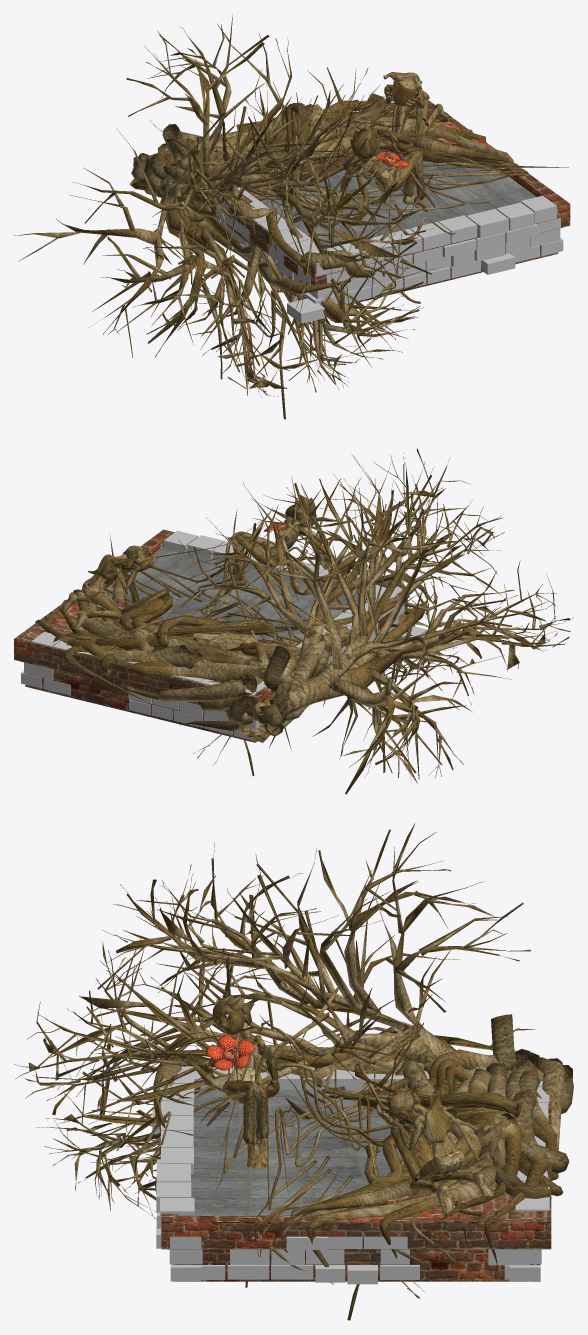
Rendered from Statue4.fbx.
3 views of the same model, one above another, from view 1: azimuth 30°, elevation 25°; view 2: azimuth 150°, elevation 25°; view 3: azimuth 270°, elevation 25° (orthographic). The views are drawn at different scales.
Visible parts, largest first — view 1: tree, Wall, BezierCurve.003, Plane, BezierCurve.002, Ego_Plane.006_PantalonJean.001, Ego_Plane.006_PantalonJean.002, Ego_Plane.006_Bras.001, Cheveux_Sphere_Material.001, Cheveux_Sphere_Material.002, Ego_Plane.006_Material.002; view 2: tree, BezierCurve.003, Plane, Wall, BezierCurve.002, Ego_Plane.006_PantalonJean.001, Ego_Plane.006_PantalonJean.002, Ego_Plane.006_Bras.001, armure, Ego_Plane.006_Material.002, Ego_Plane.006_Bras.002; view 3: tree, Plane, BezierCurve.003, Wall, BezierCurve.002, Ego_Plane.006_PantalonJean.001, Ego_Plane.006_PantalonJean.002, armure, Ego_Plane.006_Material.001, Ego_Plane.006_Material.002, Ego_Plane.006_Bras.001, Ego_Plane.006_Tete.001 (+2 smaller).
Part boxes in pixels (x1=…): tree: x1=14, y1=14, x2=439, y2=419; Wall: x1=165, y1=95, x2=563, y2=323; BezierCurve.003: x1=130, y1=93, x2=568, y2=297; Plane: x1=158, y1=100, x2=570, y2=304; BezierCurve.002: x1=224, y1=121, x2=529, y2=303; Ego_Plane.006_PantalonJean.001: x1=385, y1=151, x2=425, y2=200; Ego_Plane.006_PantalonJean.002: x1=392, y1=99, x2=441, y2=137; Ego_Plane.006_Bras.001: x1=335, y1=155, x2=378, y2=220; Cheveux_Sphere_Material.001: x1=350, y1=124, x2=377, y2=160; Cheveux_Sphere_Material.002: x1=386, y1=76, x2=417, y2=105; Ego_Plane.006_Material.002: x1=361, y1=158, x2=397, y2=193; tree: x1=169, y1=448, x2=573, y2=794; BezierCurve.003: x1=35, y1=534, x2=415, y2=736; Plane: x1=14, y1=529, x2=407, y2=742; Wall: x1=21, y1=530, x2=426, y2=741; BezierCurve.002: x1=62, y1=506, x2=354, y2=646; Ego_Plane.006_PantalonJean.001: x1=232, y1=531, x2=275, y2=580; Ego_Plane.006_PantalonJean.002: x1=76, y1=588, x2=121, y2=619; Ego_Plane.006_Bras.001: x1=277, y1=528, x2=331, y2=595; armure: x1=88, y1=554, x2=129, y2=584; Ego_Plane.006_Material.002: x1=266, y1=516, x2=299, y2=567; Ego_Plane.006_Bras.002: x1=116, y1=549, x2=156, y2=589; tree: x1=14, y1=823, x2=535, y2=1320; Plane: x1=161, y1=1068, x2=551, y2=1281; BezierCurve.003: x1=153, y1=1014, x2=573, y2=1284; Wall: x1=152, y1=1066, x2=549, y2=1284; BezierCurve.002: x1=156, y1=1014, x2=479, y2=1275; Ego_Plane.006_PantalonJean.001: x1=225, y1=1080, x2=269, y2=1144; Ego_Plane.006_PantalonJean.002: x1=410, y1=1159, x2=476, y2=1193; armure: x1=422, y1=1096, x2=452, y2=1148; Ego_Plane.006_Material.001: x1=413, y1=1104, x2=464, y2=1166; Ego_Plane.006_Material.002: x1=223, y1=1022, x2=262, y2=1095; Ego_Plane.006_Bras.001: x1=201, y1=1034, x2=279, y2=1097; Ego_Plane.006_Tete.001: x1=215, y1=1005, x2=248, y2=1035.
Size of the model in its own units: 721 by 548 by 639.
